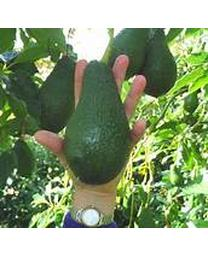avocado: (63, 60, 132, 186)
